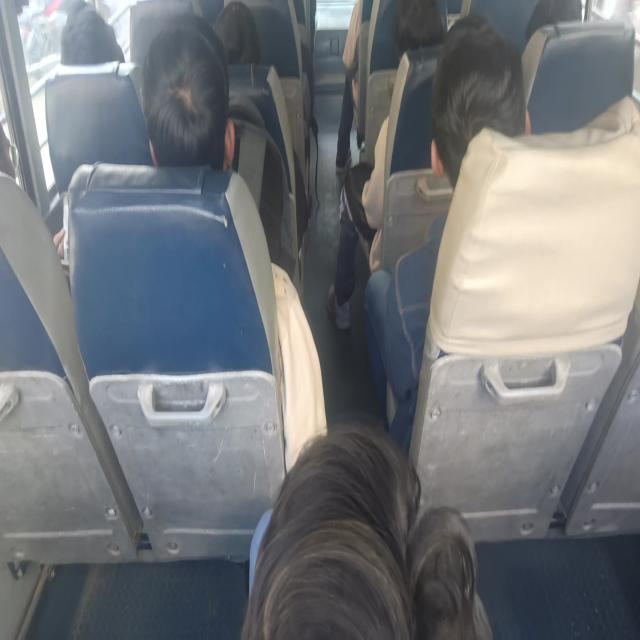person: (249, 421, 479, 640), (433, 20, 520, 196), (142, 31, 236, 183), (58, 2, 126, 66), (396, 0, 445, 71), (524, 0, 586, 49), (209, 6, 260, 65), (0, 113, 30, 183)
